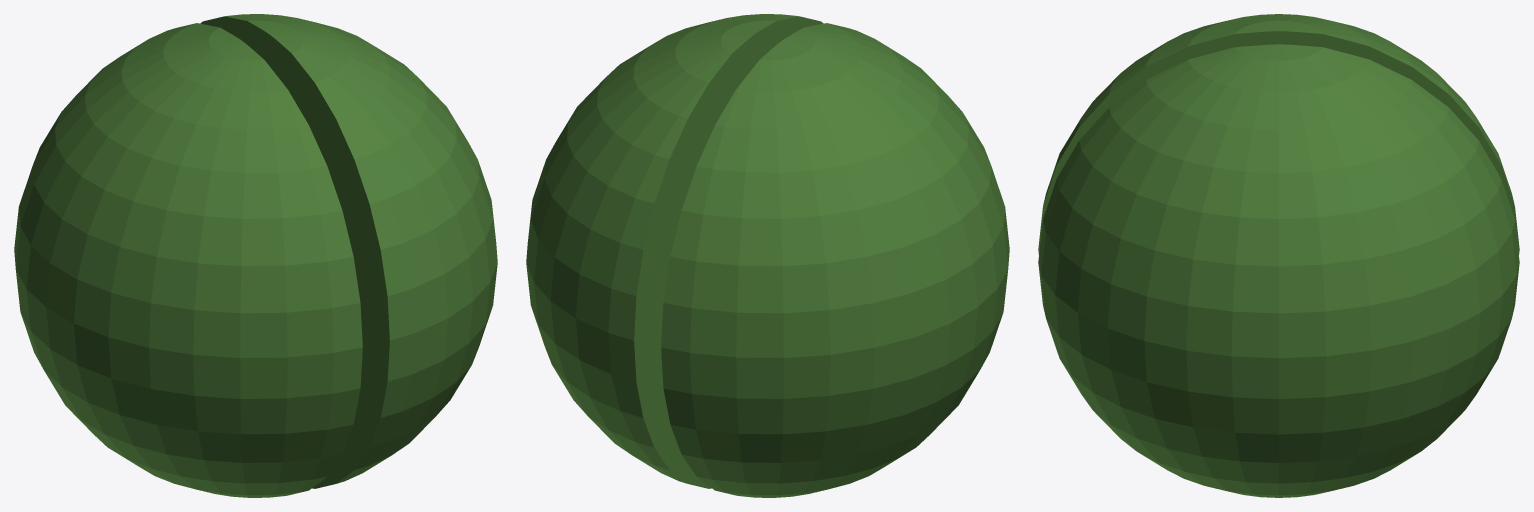
Rendered from Ground01.fbx.
3 renders of one model, left to right at view 1: azimuth 30°, elevation 25°; view 2: azimuth 150°, elevation 25°; view 3: azimuth 270°, elevation 25°, orthographic.
Visible parts, largest first — view 1: field; view 2: field; view 3: field.
Boxes of the visible parts, box(x1,y1,x2,y2) form: field: box(14, 14, 497, 497); field: box(526, 14, 1009, 497); field: box(1038, 14, 1519, 497).
Size of the model in its own units: 20000 by 19873 by 19873.
